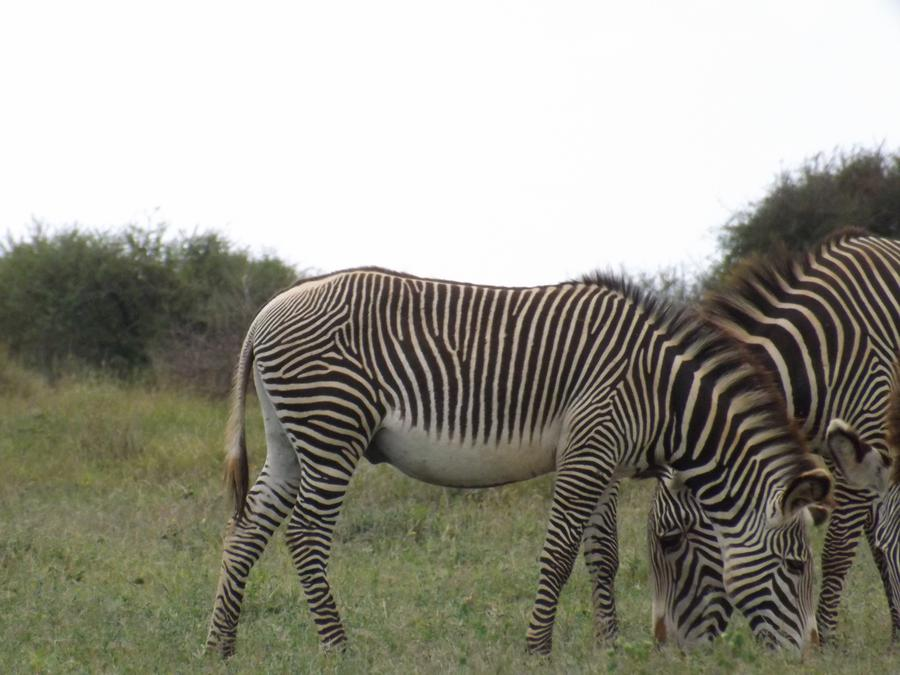zebra_grevys: (241, 242, 623, 481)
